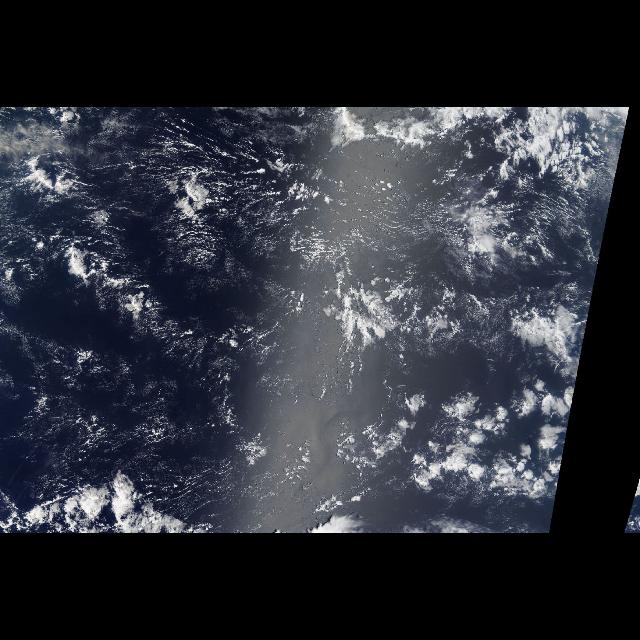Flower: (342, 366, 572, 508)
Sugar: (2, 113, 424, 309), (2, 310, 102, 396)
